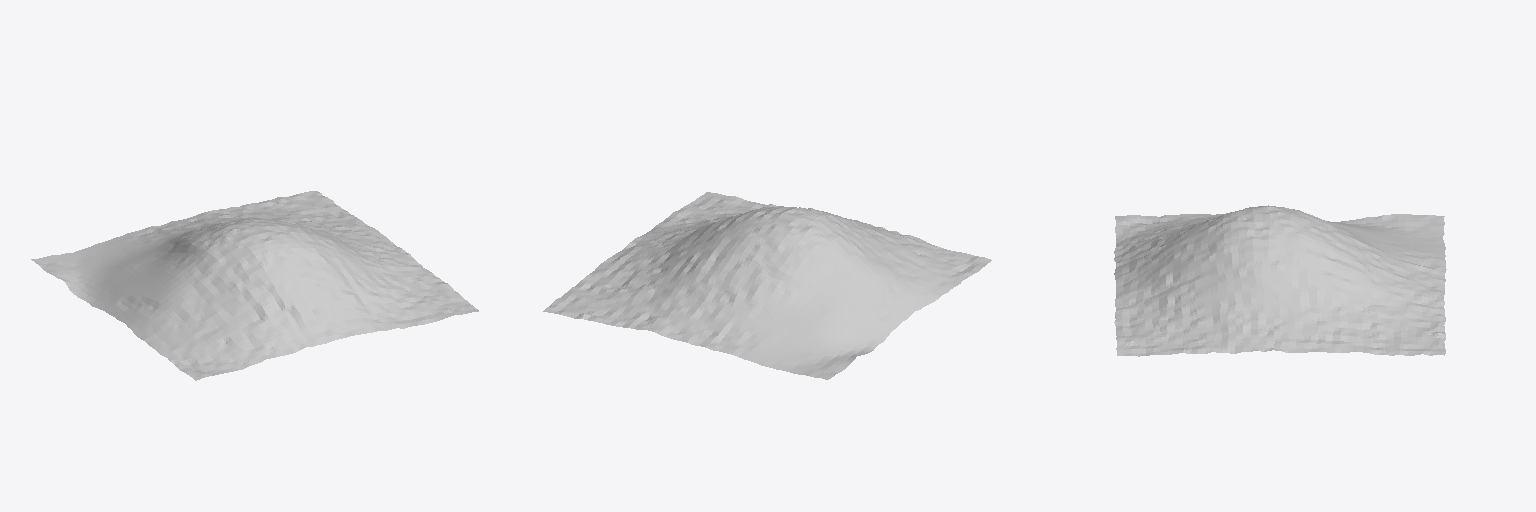
The model's file is world_2_1.obj.
The picture shows the model from 3 angles: view 1: azimuth 30°, elevation 25°; view 2: azimuth 150°, elevation 25°; view 3: azimuth 270°, elevation 25°; orthographic projection.
Parts seen in each view (by area): view 1: Plane; view 2: Plane; view 3: Plane.
Part boxes in pixels (bbox=[...]): Plane: bbox=[31, 191, 478, 380]; Plane: bbox=[543, 192, 991, 379]; Plane: bbox=[1114, 205, 1446, 356].
Bounding box in the file's own units: 202 × 45.48 × 202.